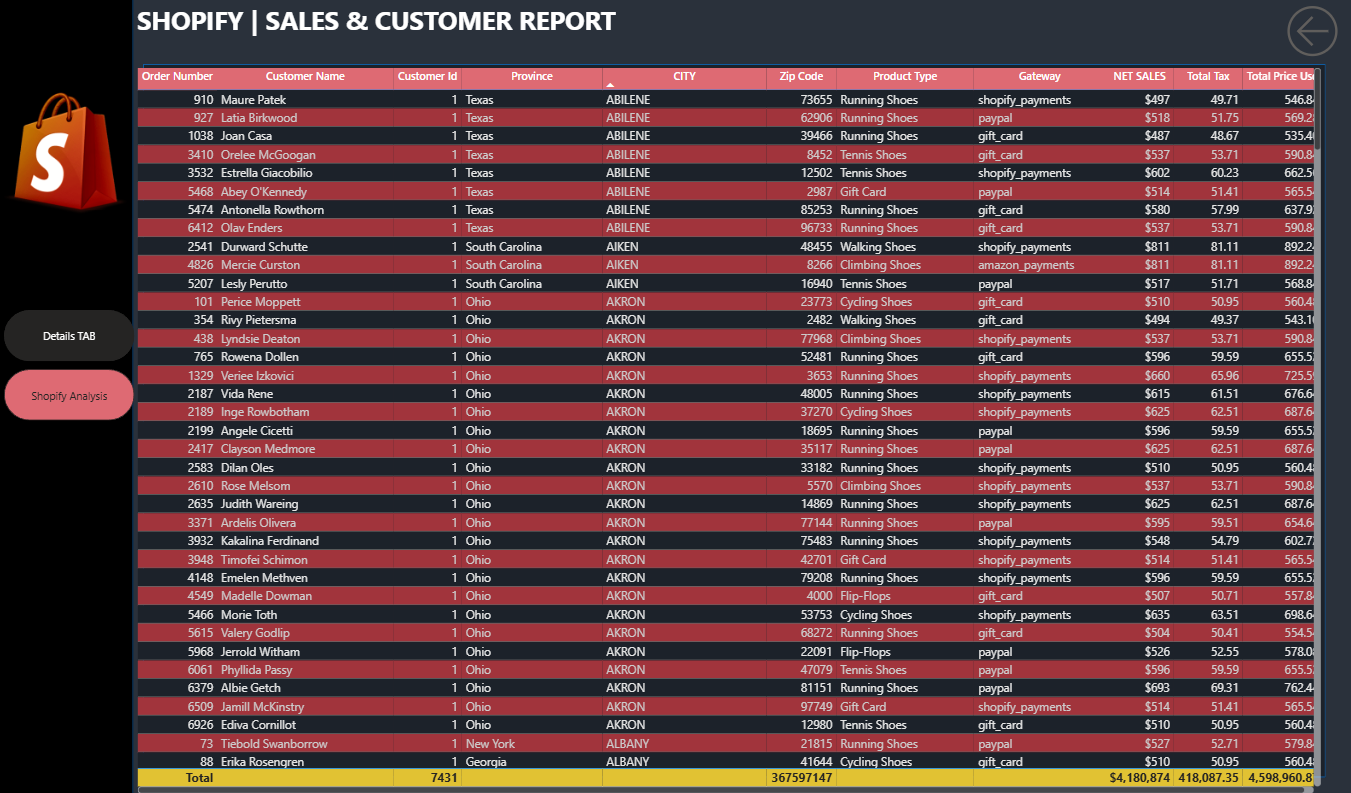

The dashboard page shown, as its layout file describes it:
{"tool":"powerbi","page":{"name":"Details TAB","canvas":[1700,1000],"ordinal":0},"visuals":[{"type":"shape","box":[0,0,169.3,1000],"z":0},{"type":"textbox","box":[169.3,0,757.9,53.1],"z":1000},{"type":"shape","box":[181.1,82.7,1478.3,891.7],"z":2000},{"type":"tableEx","fields":{"Values":["shopify_sales.Order Number","shopify_sales.Customer Name","CountNonNull(shopify_sales.Customer Id)","shopify_sales.Billing Address Province","shopify_sales.CITY","Sum(shopify_sales.Billing Address Zip)","shopify_sales.Product Type","shopify_sales.Gateway","shopify_sales.NET SALES","Sum(shopify_sales.Total Tax)","Sum(shopify_sales.Total Price Usd)"]},"box":[169.3,82.7,1490.2,917.3],"z":3000},{"type":"actionButton","box":[1604.3,0,78.7,82.7],"z":4000},{"type":"pageNavigator","box":[7.1,390,164,138],"z":5000},{"type":"image","box":[1.4,108.6,170,171.4],"z":6000}]}

Visuals, with their boxes on the page's 1700x1000 design canvas (x1, y1, x2, y2). These are canvas units, not pixel positions in the 1351x793 screenshot, which may show the page scaled, cropped or inside an application window:
shape: (0, 0, 169, 1000)
textbox: (169, 0, 927, 53)
shape: (181, 83, 1659, 974)
tableEx - shopify_sales.Order Number x shopify_sales.Customer Name: (169, 83, 1660, 1000)
actionButton: (1604, 0, 1683, 83)
pageNavigator: (7, 390, 171, 528)
image: (1, 109, 171, 280)
